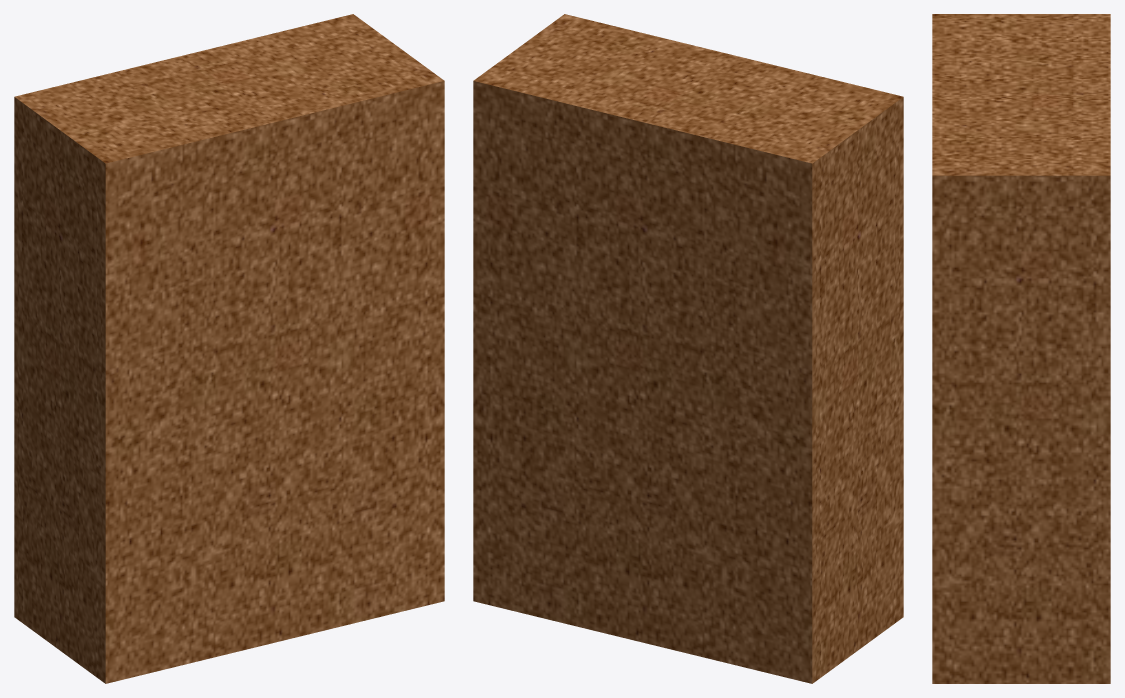
File: yoga-block-cork-small-tex.glb
3 renders of one model, left to right at view 1: azimuth 30°, elevation 25°; view 2: azimuth 150°, elevation 25°; view 3: azimuth 270°, elevation 25°, orthographic. The views are drawn at different scales.
Parts seen in each view (by area): view 1: wood-grain-material-yoga-block; view 2: wood-grain-material-yoga-block; view 3: wood-grain-material-yoga-block.
Boxes of the visible parts, left/top/right/bottom form: wood-grain-material-yoga-block: left=14, top=14, right=444, bottom=683; wood-grain-material-yoga-block: left=473, top=14, right=903, bottom=683; wood-grain-material-yoga-block: left=932, top=14, right=1110, bottom=683.
Size of the model in its own units: 0.15 by 0.22 by 0.07.
1 material, 1 textured.
